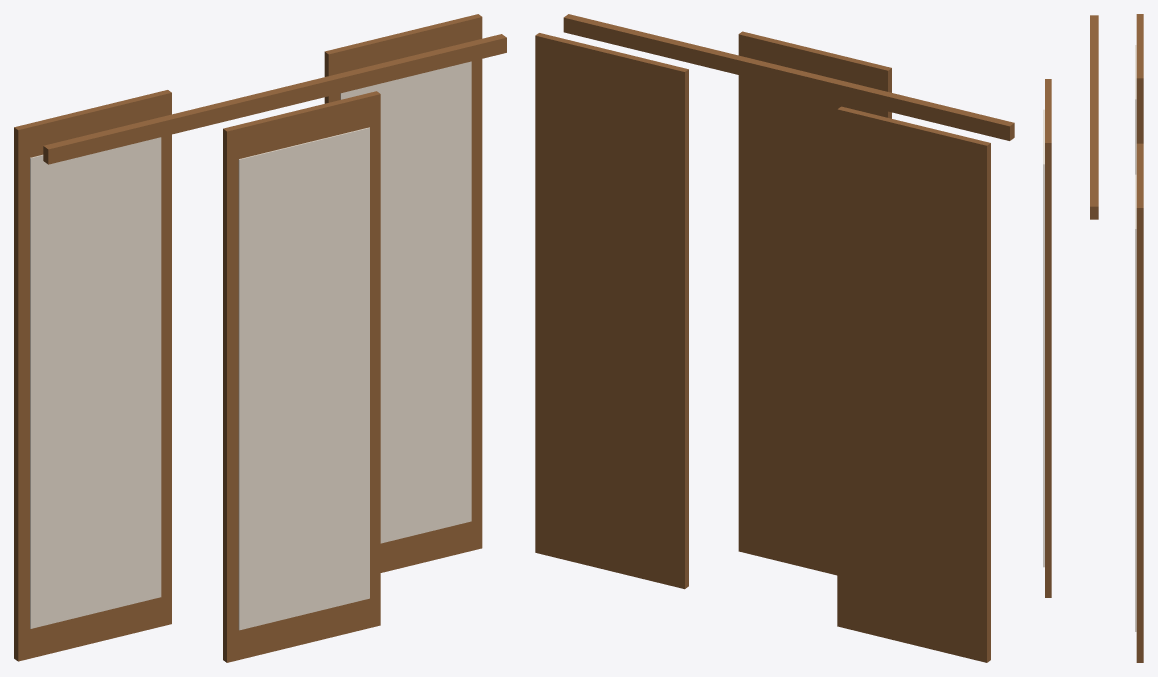
Rendered from screenspan.glb.
The picture shows the model from 3 angles, left to right: view 1: azimuth 30°, elevation 25°; view 2: azimuth 150°, elevation 25°; view 3: azimuth 270°, elevation 25°; orthographic projection. The views are drawn at different scales.
Parts seen in each view (by area): view 1: material-1, material-0; view 2: material-0; view 3: material-0, material-1.
Boxes of the visible parts, x1,y1,x2,y2 form: material-1: (30,61,471,630); material-0: (14,14,506,662); material-0: (535,14,1014,662); material-0: (1045,14,1143,662); material-1: (1043,45,1136,631).
Size of the model in its own units: 1.6 by 1.75 by 0.349.
